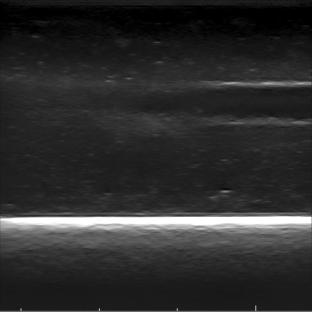vessel: (178, 79, 311, 129)
